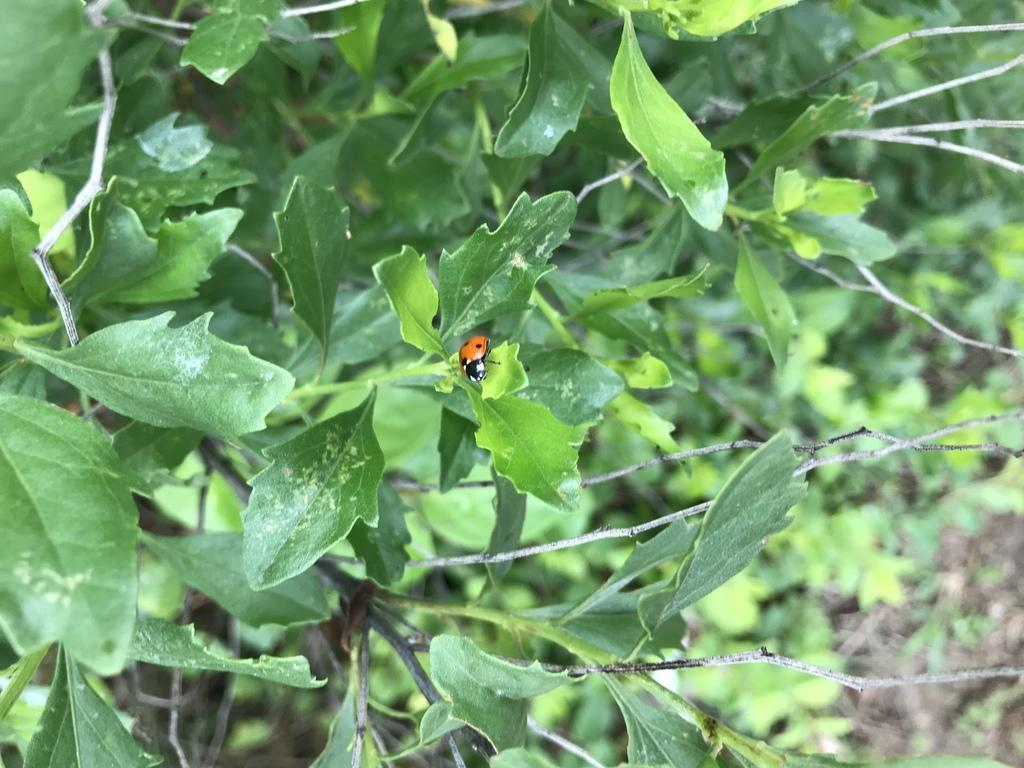ladybug: (458, 333, 503, 387)
